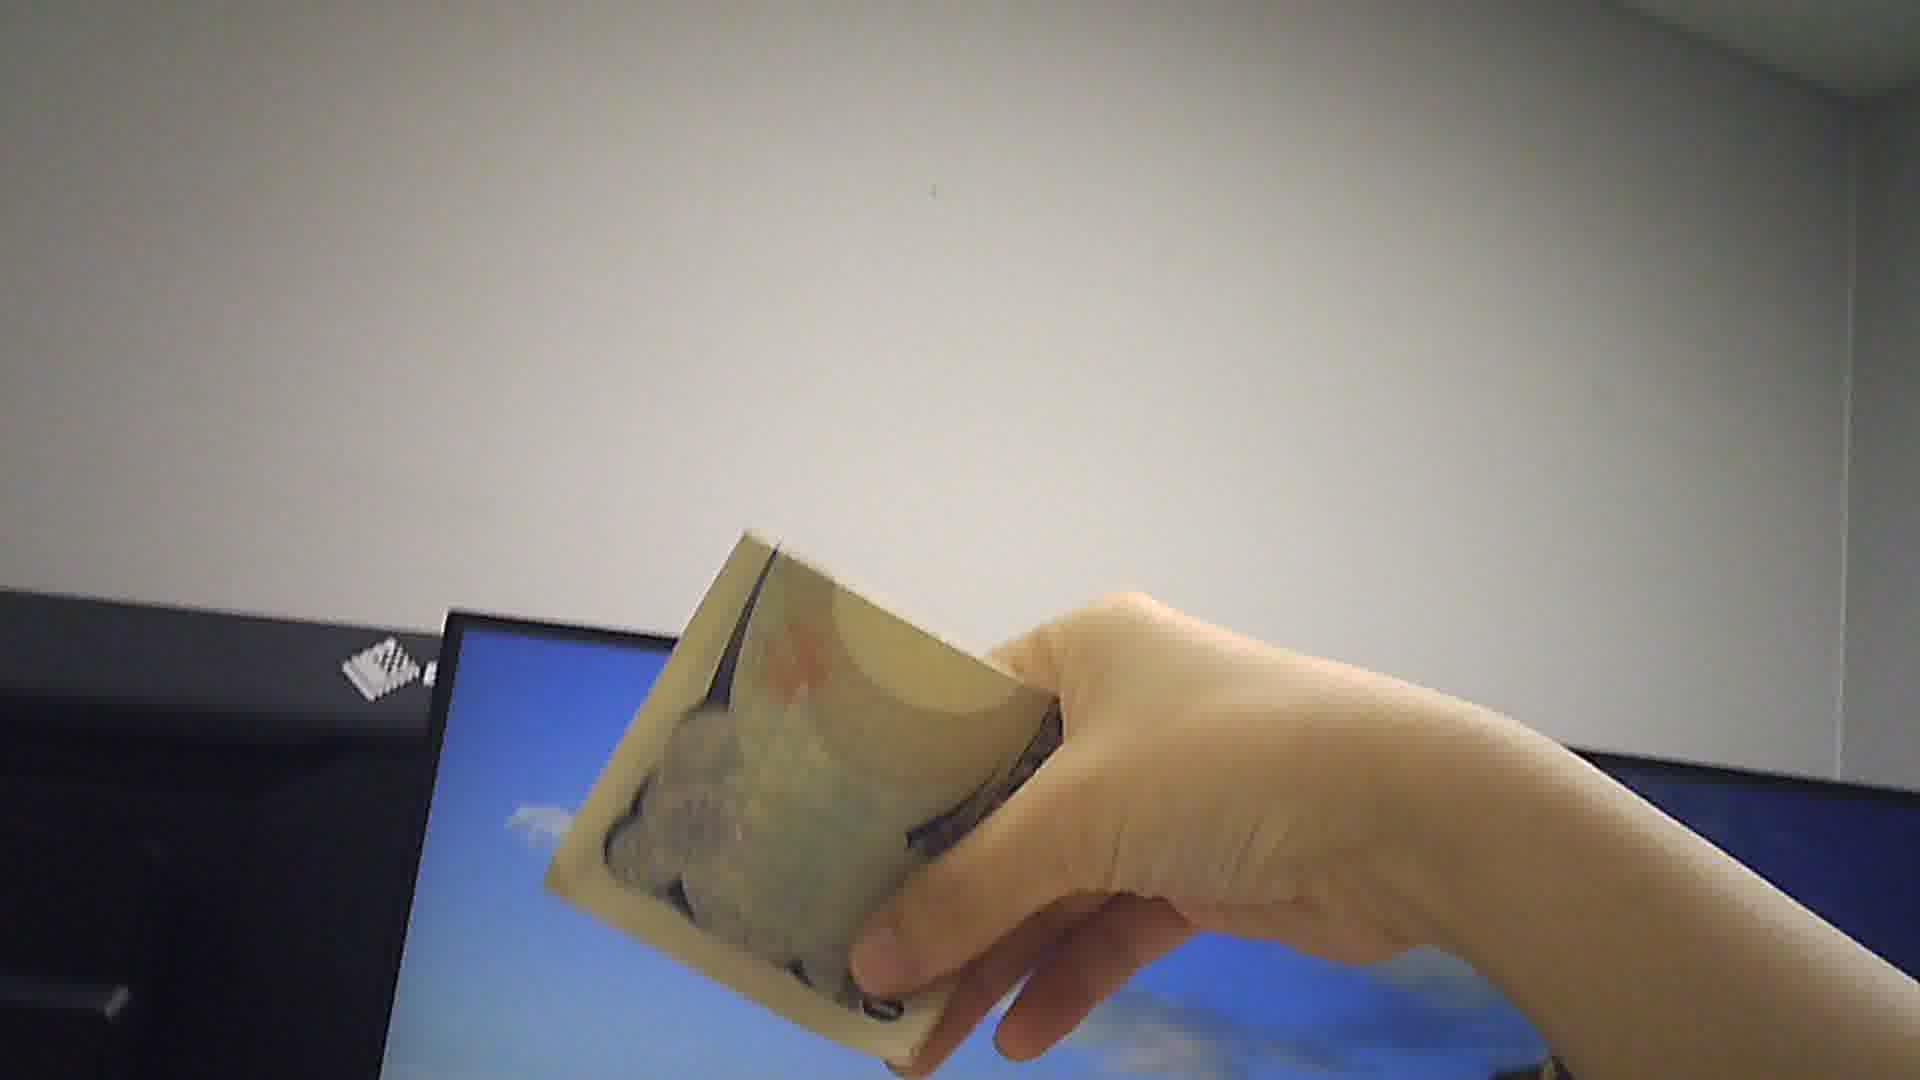1,000 Yen: (554, 541, 1077, 1040)
